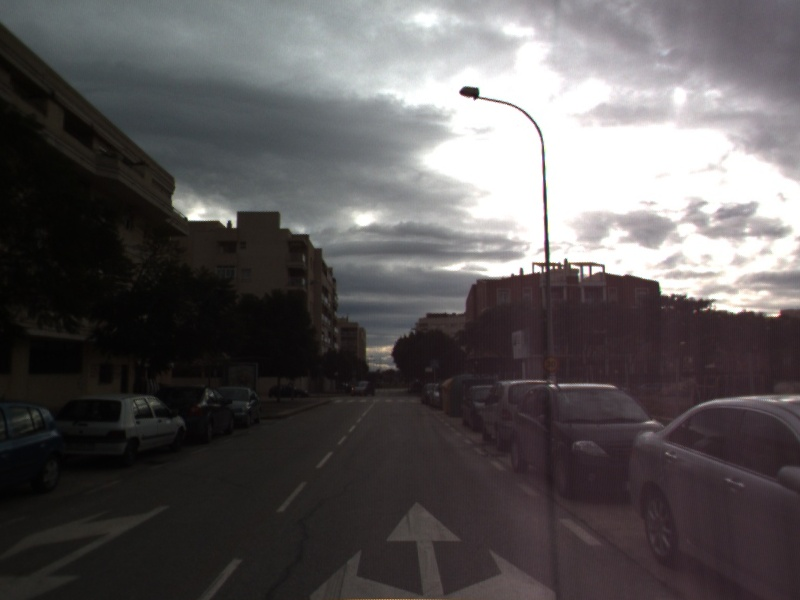STRAIGHT_LEFT_RIGHT: (303, 497, 562, 600)
